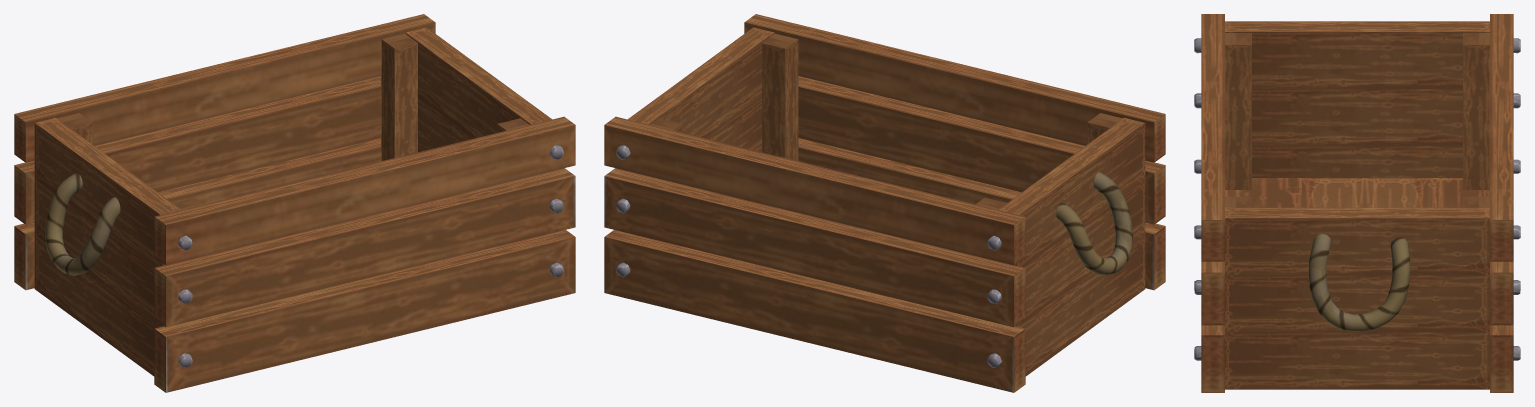
File: FarmCrate_Empty.gltf
The picture shows the model from 3 angles, left to right: view 1: azimuth 30°, elevation 25°; view 2: azimuth 150°, elevation 25°; view 3: azimuth 270°, elevation 25°; orthographic projection. The views are drawn at different scales.
Visible parts, largest first — view 1: FarmCrate_Empty; view 2: FarmCrate_Empty; view 3: FarmCrate_Empty.
Boxes of the visible parts, bbox=[...] form: FarmCrate_Empty: bbox=[14, 14, 575, 392]; FarmCrate_Empty: bbox=[604, 14, 1165, 392]; FarmCrate_Empty: bbox=[1194, 14, 1520, 392].
Bounding box in the file's own units: 0.7138 × 0.2438 × 0.4142.
Materials: 2 (2 with a texture image).
